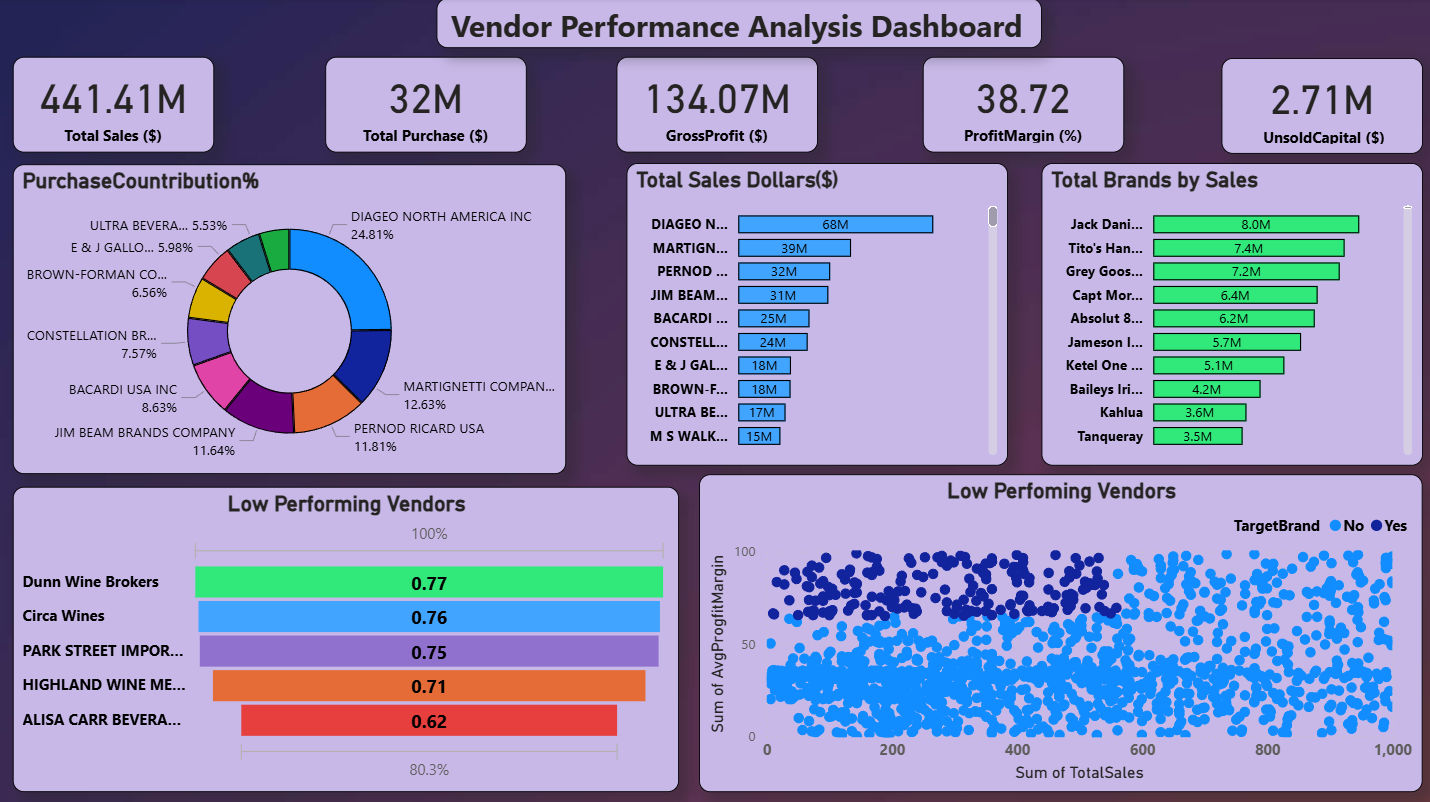

The page's visual inventory and layout, read from the dashboard file:
{"tool":"powerbi","page":{"name":"Page 1","canvas":[1280,720],"ordinal":0},"visuals":[{"type":"card","fields":{"Values":["Sum(vendor_sales_summary.TotalSalesDollars)"]},"box":[12.3,52.5,179.8,86],"z":0},{"type":"card","fields":{"Values":["Sum(vendor_sales_summary.TotalPurchaseQuantity)"]},"box":[291.4,52.5,179.8,86],"z":1000},{"type":"card","fields":{"Values":["Sum(vendor_sales_summary.GrossProfit)"]},"box":[551.6,52.5,179.8,86],"z":2000},{"type":"card","fields":{"Values":["Avg(vendor_sales_summary.ProfitMargin)"]},"box":[825.2,52.5,179.8,86],"z":3000},{"type":"card","fields":{"Values":["Sum(vendor_sales_summary.UnsoldCapital)"]},"box":[1092.1,53.6,179.8,86],"z":4000},{"type":"donutChart","title":" PurchaseCountribution% ","fields":{"Category":["PurchaseCountribution1.VendorName"],"Y":["Sum(PurchaseCountribution1.PurchaseCountribution%)"]},"box":[12.3,148.5,494.7,276.9],"z":5000},{"type":"clusteredBarChart","title":"Total Sales Dollars($) ","fields":{"Category":["vendor_sales_summary.VendorName"],"Y":["Sum(vendor_sales_summary.TotalSalesDollars)"]},"box":[560.5,147.4,340.6,270.2],"z":6000},{"type":"barChart","title":"Total Brands by Sales","fields":{"Category":["vendor_sales_summary.Description"],"Y":["Sum(vendor_sales_summary.TotalSalesDollars)"]},"box":[931.3,147.4,340.6,270.2],"z":7000},{"type":"funnel","title":"Low Performing Vendors","fields":{"Y":["Avg(LowTurnOverVendor.AvgStockTurnOver)"],"Category":["LowTurnOverVendor.VendorName"]},"box":[12.3,436.6,595.2,272.5],"z":8000},{"type":"scatterChart","title":"Low Perfoming Vendors","fields":{"Category":["BrandPerformance.Description"],"X":["Sum(BrandPerformance.TotalSales)"],"Y":["Sum(BrandPerformance.AvgProgfitMargin)"],"Series":["BrandPerformance.TargetBrand"]},"box":[625.3,425.4,646.5,283.6],"z":9000},{"type":"textbox","box":[390.8,0,540.4,44.7],"z":9001}]}

Visuals, with their boxes in screenshot pixels (x1, y1, x2, y2), scaled from the page's 1280x720 canvas onto the 1430x802 screenshot:
card - Sum(vendor_sales_summary.TotalSalesDollars): box=[14, 58, 215, 154]
card - Sum(vendor_sales_summary.TotalPurchaseQuantity): box=[326, 58, 526, 154]
card - Sum(vendor_sales_summary.GrossProfit): box=[616, 58, 817, 154]
card - Avg(vendor_sales_summary.ProfitMargin): box=[922, 58, 1123, 154]
card - Sum(vendor_sales_summary.UnsoldCapital): box=[1220, 60, 1421, 155]
" PurchaseCountribution% " donutChart: box=[14, 165, 566, 474]
"Total Sales Dollars($) " clusteredBarChart: box=[626, 164, 1007, 465]
"Total Brands by Sales" barChart: box=[1040, 164, 1421, 465]
"Low Performing Vendors" funnel: box=[14, 486, 679, 790]
"Low Perfoming Vendors" scatterChart: box=[699, 474, 1421, 790]
textbox: box=[437, 0, 1040, 50]
